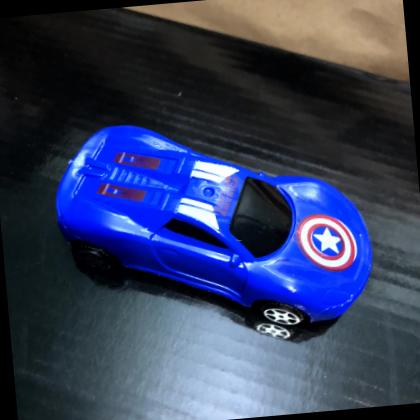Car: (54, 125, 373, 326)
